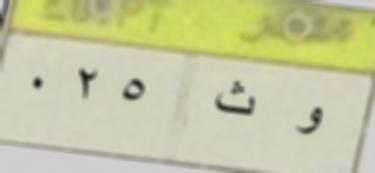0: (21, 66, 53, 100)
2: (71, 63, 102, 102)
5: (117, 70, 148, 109)
thaa: (207, 78, 260, 124)
waw: (290, 100, 326, 143)
